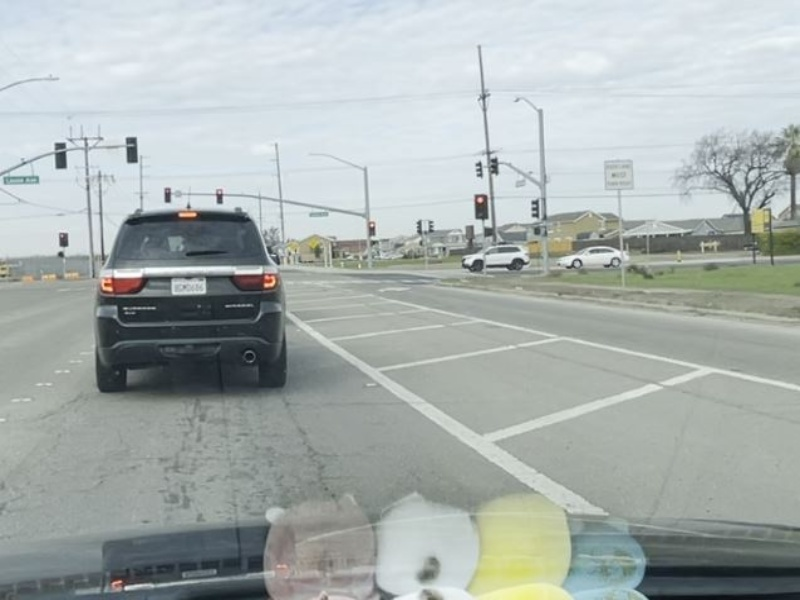merge sign: (601, 157, 634, 194)
